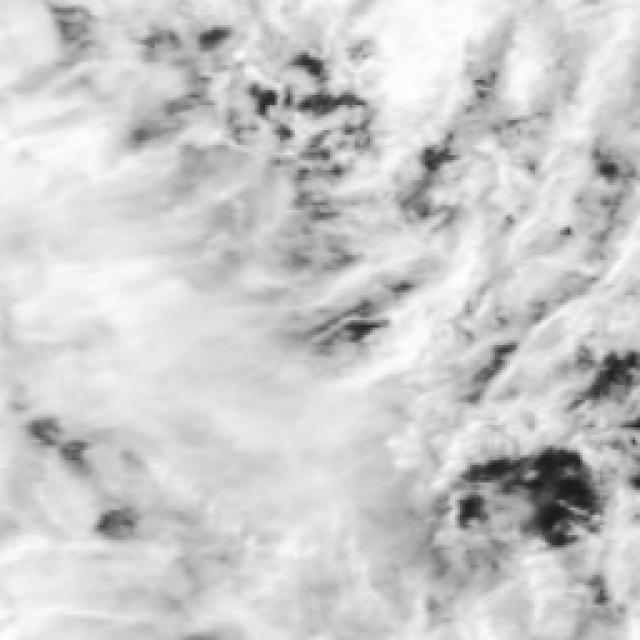CB: (0, 208, 217, 388), (0, 2, 179, 207), (0, 433, 174, 640), (152, 389, 328, 572), (264, 481, 416, 639)
